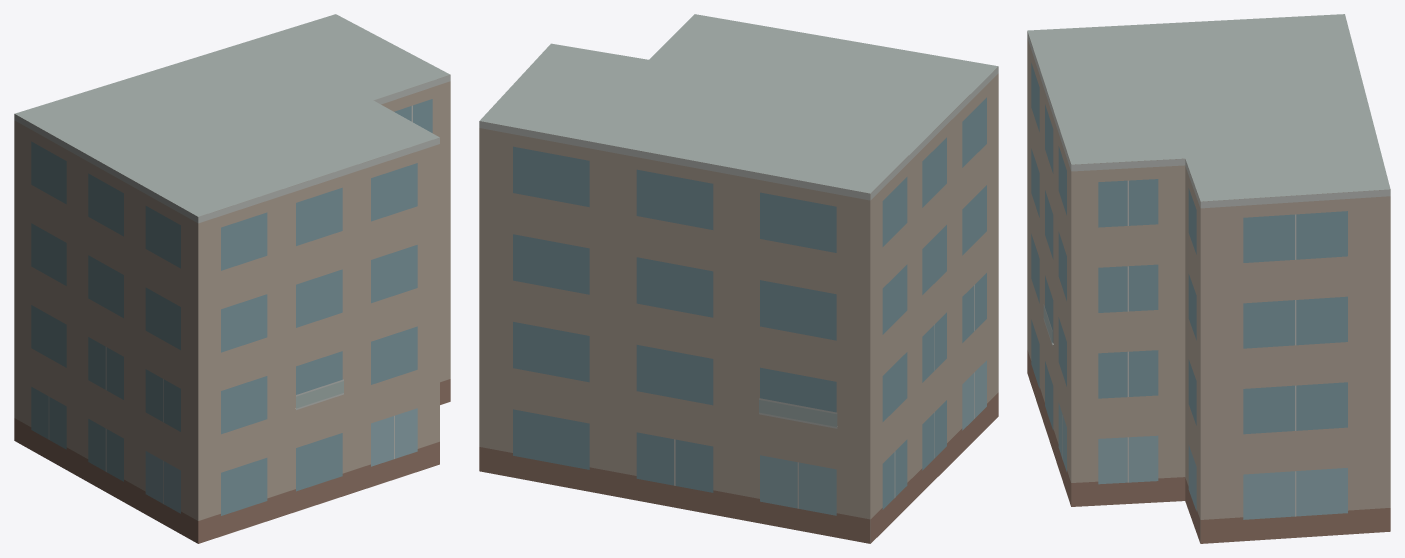
Rendered from survey-upis-32819429.glb.
3 renders of one model, left to right at view 1: azimuth 30°, elevation 25°; view 2: azimuth 150°, elevation 25°; view 3: azimuth 270°, elevation 25°, orthographic. The views are drawn at different scales.
Visible parts, largest first — view 1: survey-upis-32819429.tmp; view 2: survey-upis-32819429.tmp; view 3: survey-upis-32819429.tmp.
Boxes of the visible parts, box(x1,y1,x2,y2) form: survey-upis-32819429.tmp: box(14, 14, 450, 543); survey-upis-32819429.tmp: box(479, 14, 998, 543); survey-upis-32819429.tmp: box(1027, 14, 1390, 543).
Bounding box in the file's own units: 14.35 × 12.2 × 11.75.
